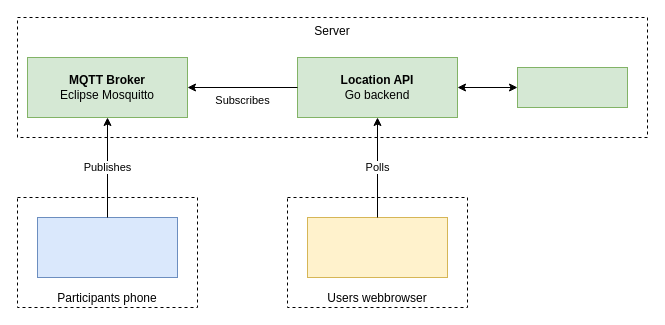
Image size: 665x325. Some labels were removed from this diagram. Each missing label, with the centre of its shape:
"Database SQLite" belongs at (572,87).
"Location publisher OwnTracks app" belongs at (107,247).
"Location visualizer React frontend" belongs at (377,247).
